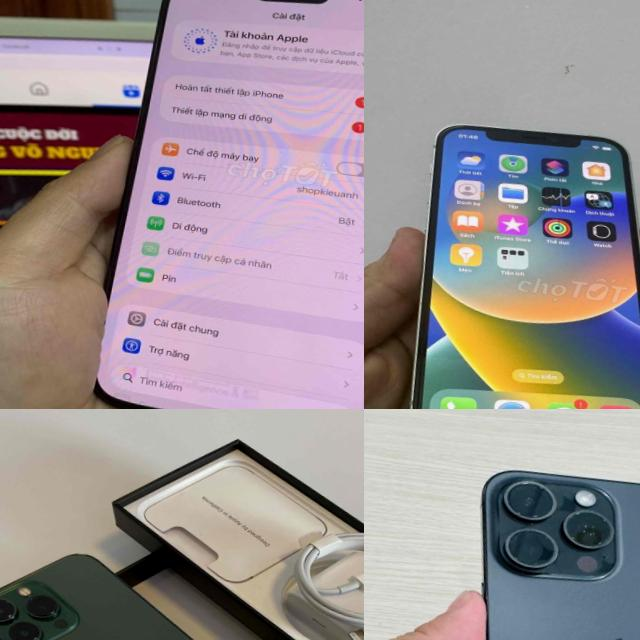gen_12_13: (392, 111, 640, 409), (0, 536, 310, 640)
gen_15: (76, 0, 364, 409), (417, 439, 640, 640)
